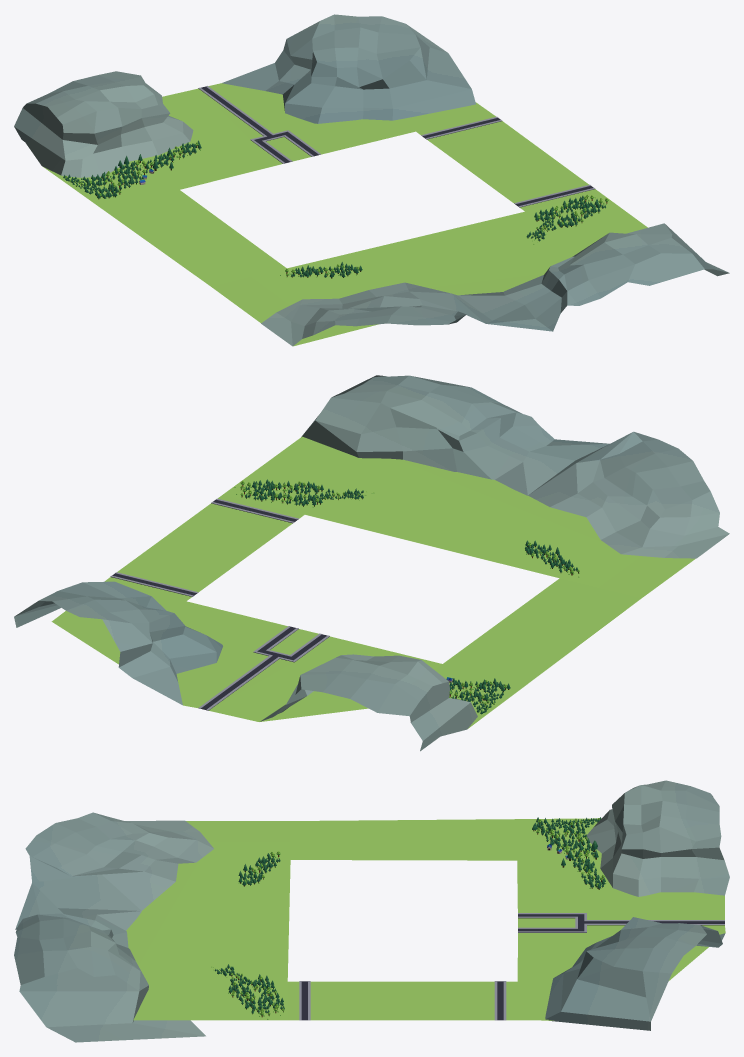
Rendered from Décor.fbx.
3 views of the same model, one above another, from view 1: azimuth 30°, elevation 25°; view 2: azimuth 150°, elevation 25°; view 3: azimuth 270°, elevation 25° (orthographic). The views are drawn at different scales.
Parts seen in each view (by area): view 1: base2.005; view 2: base2.005; view 3: base2.005.
Boxes of the visible parts, box(x1,y1,x2,y2) form: base2.005: box(14, 14, 729, 346); base2.005: box(14, 375, 729, 751); base2.005: box(14, 780, 729, 1042).
Bounding box in the file's own units: 8713 × 1435 × 12444.
